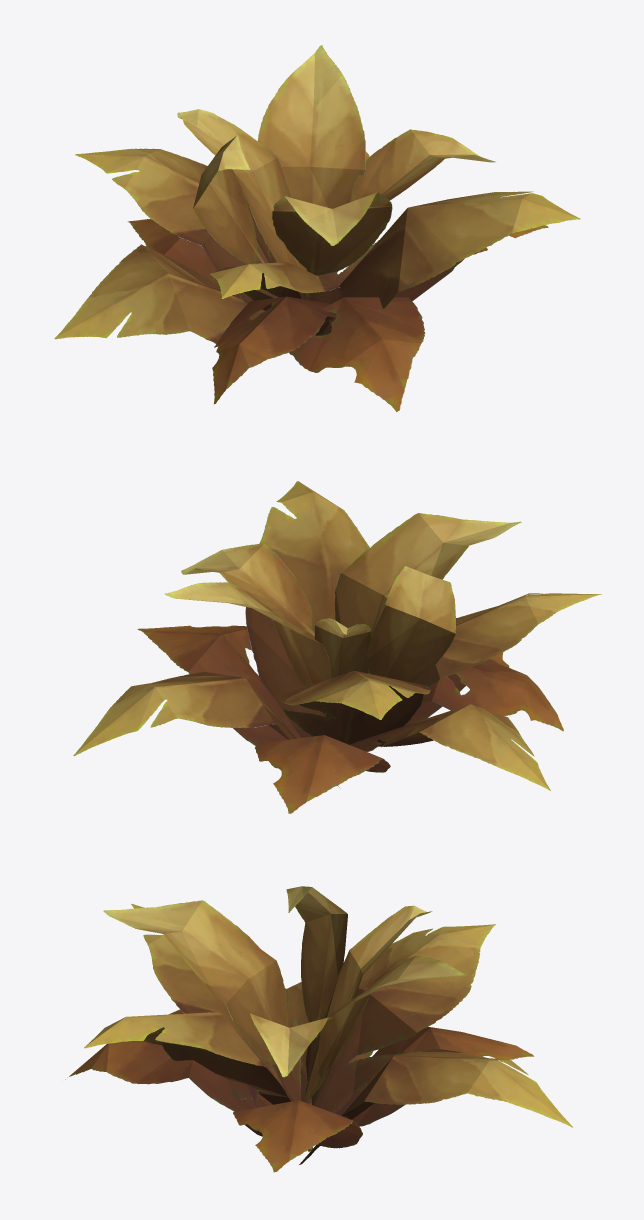
Rendered from YiJi_cao_02.fbx.
3 views of the same model, one above another, from view 1: azimuth 30°, elevation 25°; view 2: azimuth 150°, elevation 25°; view 3: azimuth 270°, elevation 25° (orthographic). The views are drawn at different scales.
Visible parts, largest first — view 1: YiJi_cao_02; view 2: YiJi_cao_02; view 3: YiJi_cao_02.
Boxes of the visible parts, x1,y1,x2,y2 form: YiJi_cao_02: (54, 45, 580, 411); YiJi_cao_02: (73, 481, 601, 813); YiJi_cao_02: (65, 886, 572, 1172).
Bounding box in the file's own units: 2.17 × 1.23 × 2.45.
